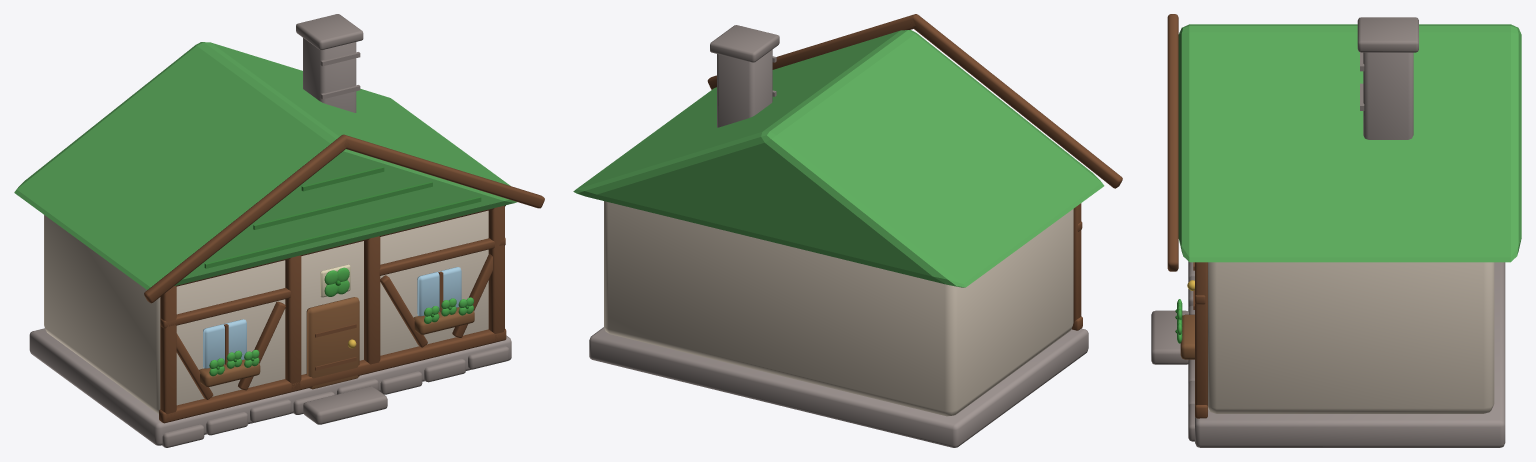
File: home2.glb
3 renders of one model, left to right at view 1: azimuth 30°, elevation 25°; view 2: azimuth 150°, elevation 25°; view 3: azimuth 270°, elevation 25°, orthographic. The views are drawn at different scales.
Visible parts, largest first — view 1: roof, oak-walls, oak-frame, stone-footing, chimney, clover; view 2: roof, oak-walls, stone-footing, chimney, oak-frame; view 3: roof, oak-walls, stone-footing, chimney, oak-frame.
Part boxes in pixels (x1,y1,x2,y2): roof: (14,42,544,303); oak-walls: (44,210,488,414); oak-frame: (159,205,506,423); stone-footing: (29,328,511,447); chimney: (296,14,363,112); clover: (209,264,473,376); roof: (573,14,1122,287); oak-walls: (604,201,1073,416); stone-footing: (589,327,1088,447); chimney: (710,25,779,127); oak-frame: (1071,203,1082,330); roof: (1167,14,1521,271); oak-walls: (1180,262,1494,413); stone-footing: (1151,261,1505,447); chimney: (1357,17,1418,139); oak-frame: (1195,262,1207,418).
Bounding box in the file's own units: 5.05 × 3.65 × 3.39.
